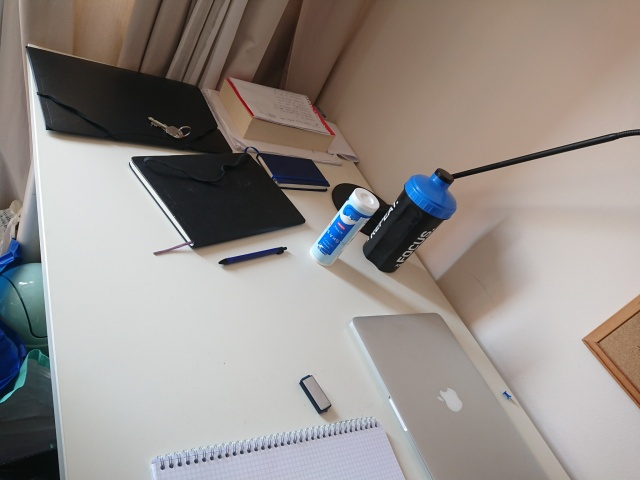Solana Pag Fine Sea Salt 250g: (308, 184, 382, 269)
